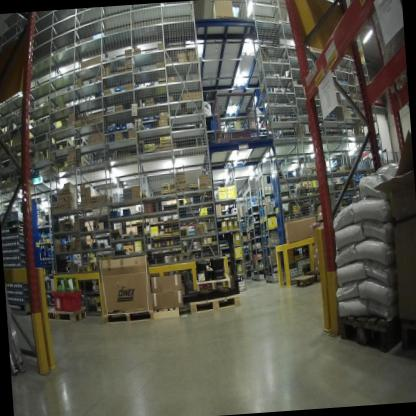pallet: (338, 306, 398, 358), (186, 291, 245, 321), (99, 303, 158, 332), (385, 55, 408, 104), (43, 304, 89, 325), (395, 311, 416, 357), (196, 274, 232, 295), (154, 305, 184, 325), (291, 271, 318, 290)
small_load_carrier: (63, 288, 87, 316), (50, 290, 65, 317)
stillage: (208, 87, 262, 152)
